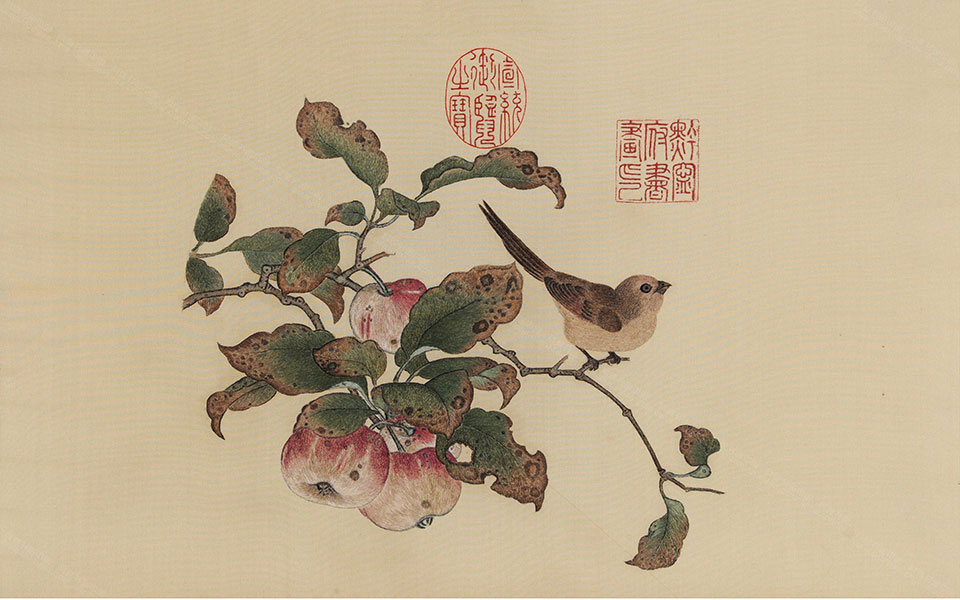bird: (474, 201, 679, 362)
flower: (274, 412, 466, 536), (340, 276, 436, 347)
